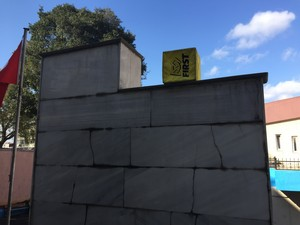cube: (163, 50, 201, 84)
